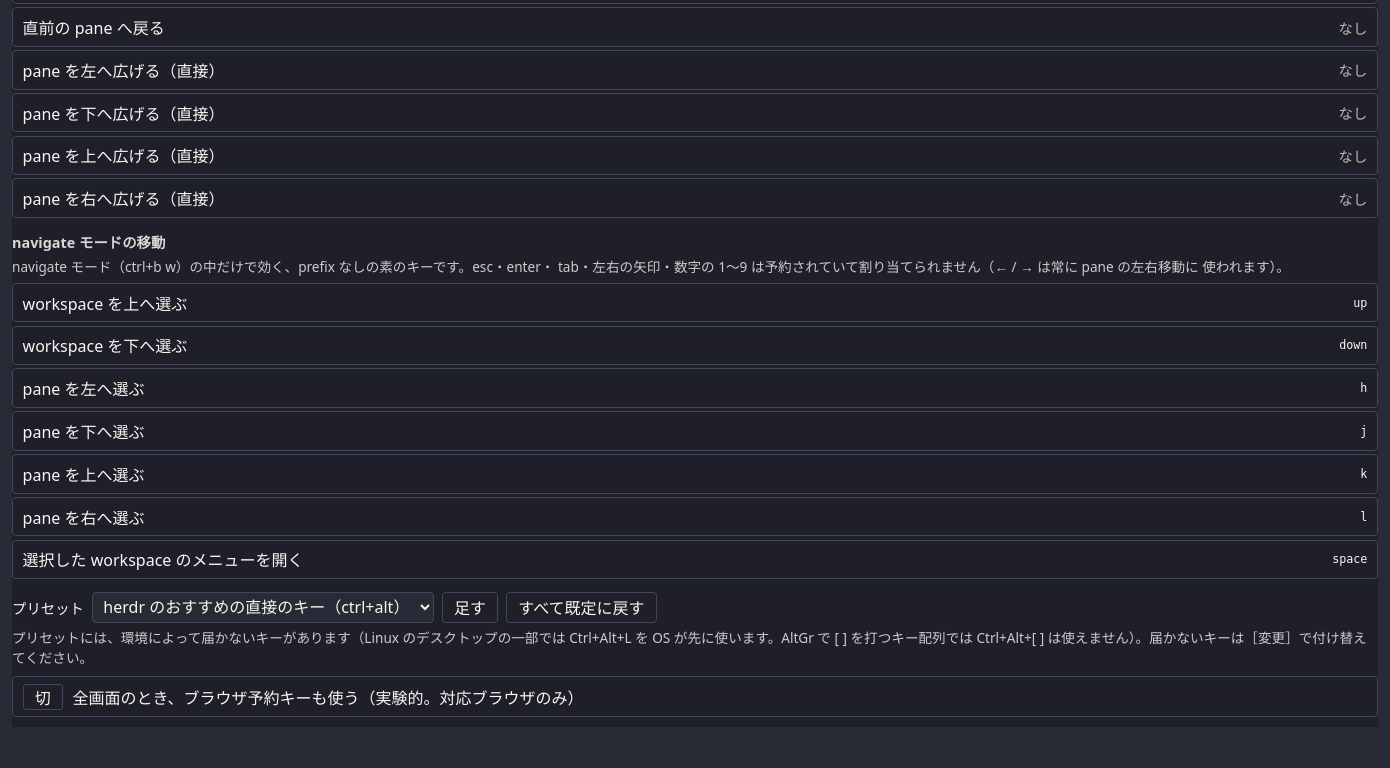
KeySettings — herdr のおすすめの直接のキー（AC10） › もう一度押すと、すでに全部入っていることを知らせる（冪等）
The width and height of the screenshot is (1390, 768).
(page scrolled)
Click the button "足す". click: (470, 607)
box: 442,592 -> 498,623
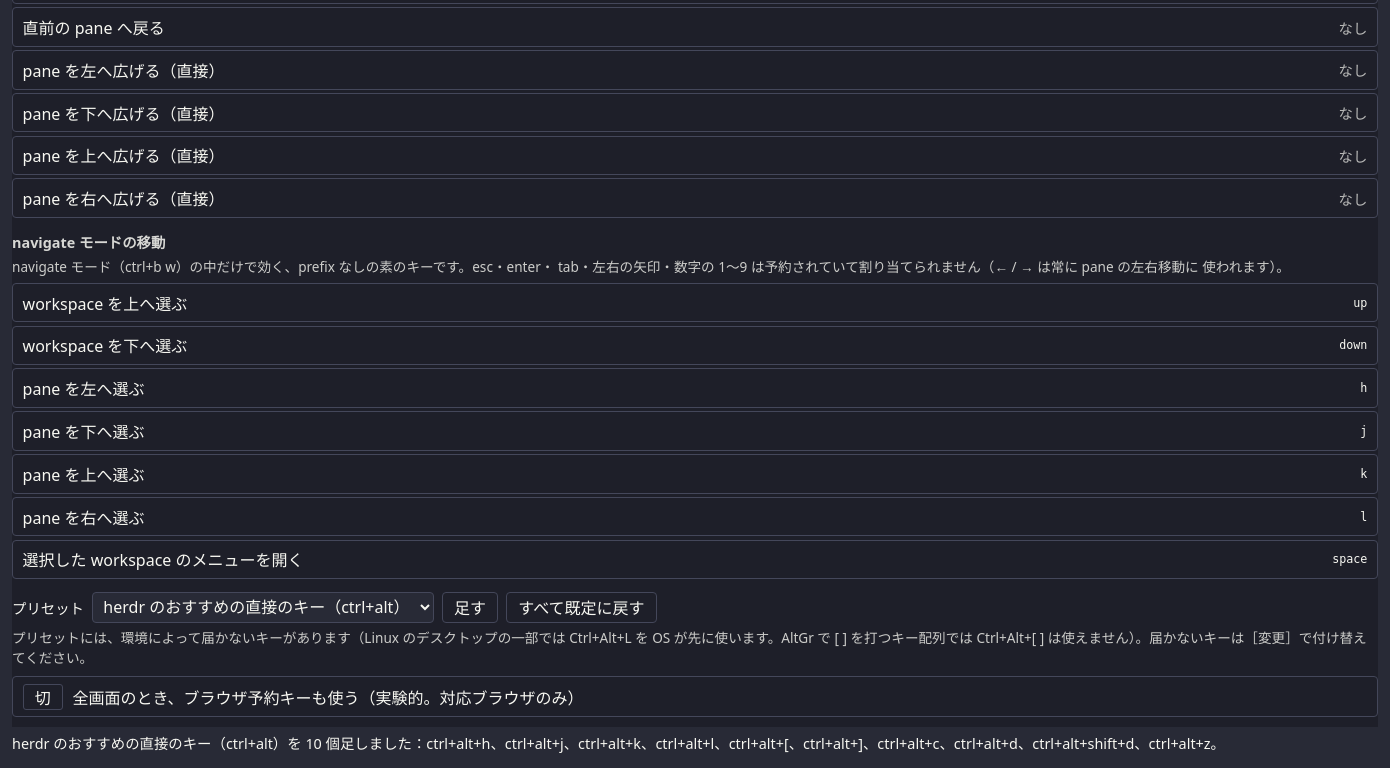
Click the button "足す". click: (470, 607)
box: 442,592 -> 498,623
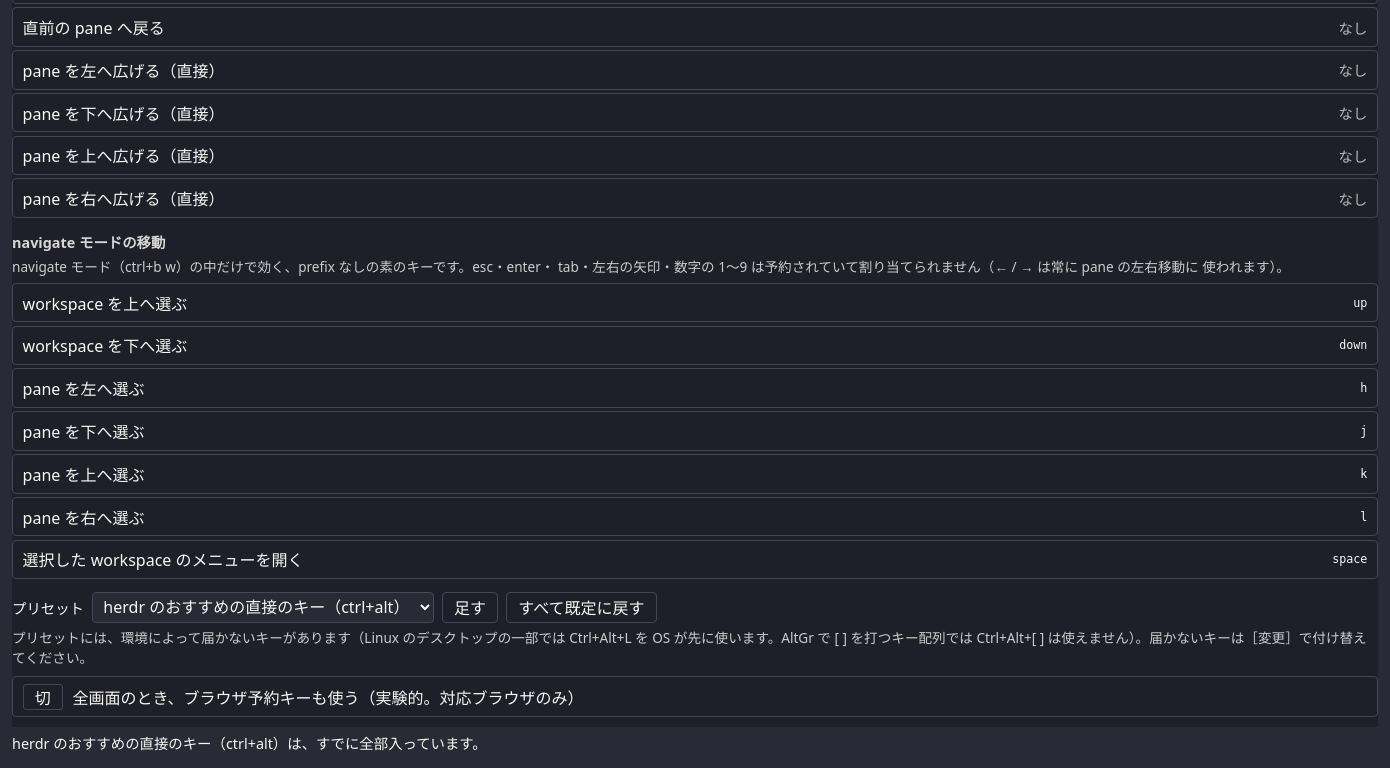
Expected: the message "herdr のおすすめの直接のキー（ctrl+alt）は、すでに全部入っています。" is shown, 12,734 -> 487,752
